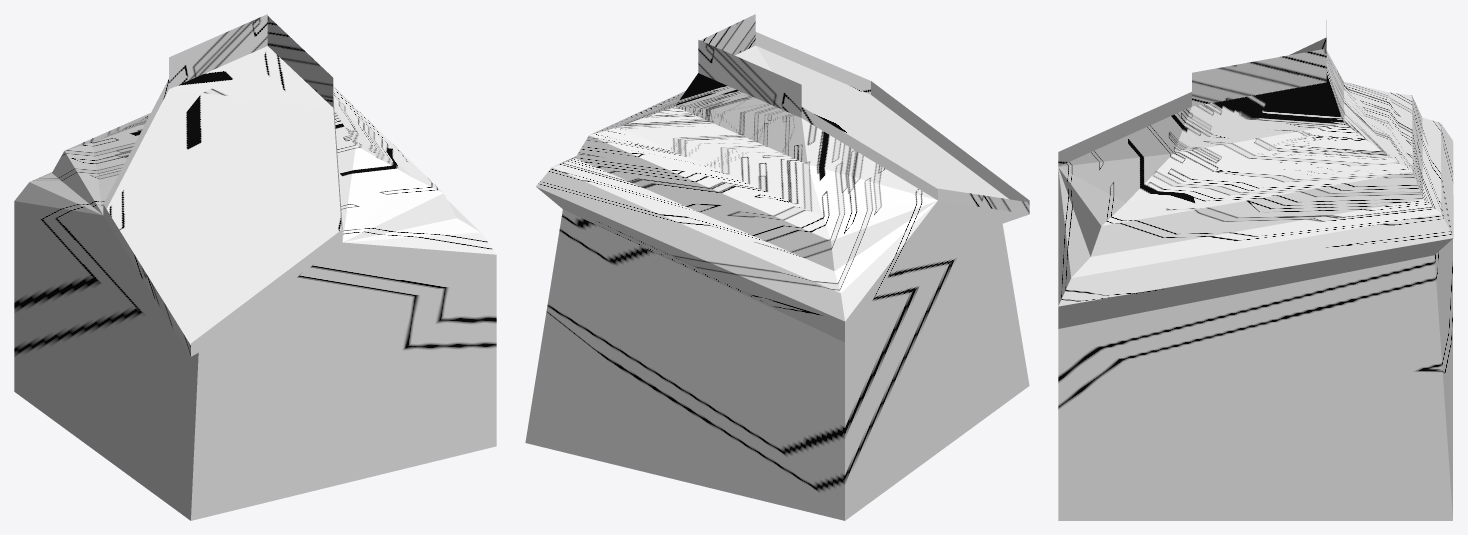
File: Item_Pedestal.glb
3 renders of one model, left to right at view 1: azimuth 30°, elevation 25°; view 2: azimuth 150°, elevation 25°; view 3: azimuth 270°, elevation 25°, orthographic. The views are drawn at different scales.
Parts seen in each view (by area): view 1: Cube; view 2: Cube; view 3: Cube.
Part boxes in pixels (left/top/right/bottom): Cube: left=14, top=14, right=496, bottom=520; Cube: left=525, top=14, right=1029, bottom=520; Cube: left=1058, top=20, right=1453, bottom=520.
Size of what is drawn, in the model's own units: 1.7 by 1.97 by 1.7.
1 material, 1 textured.
